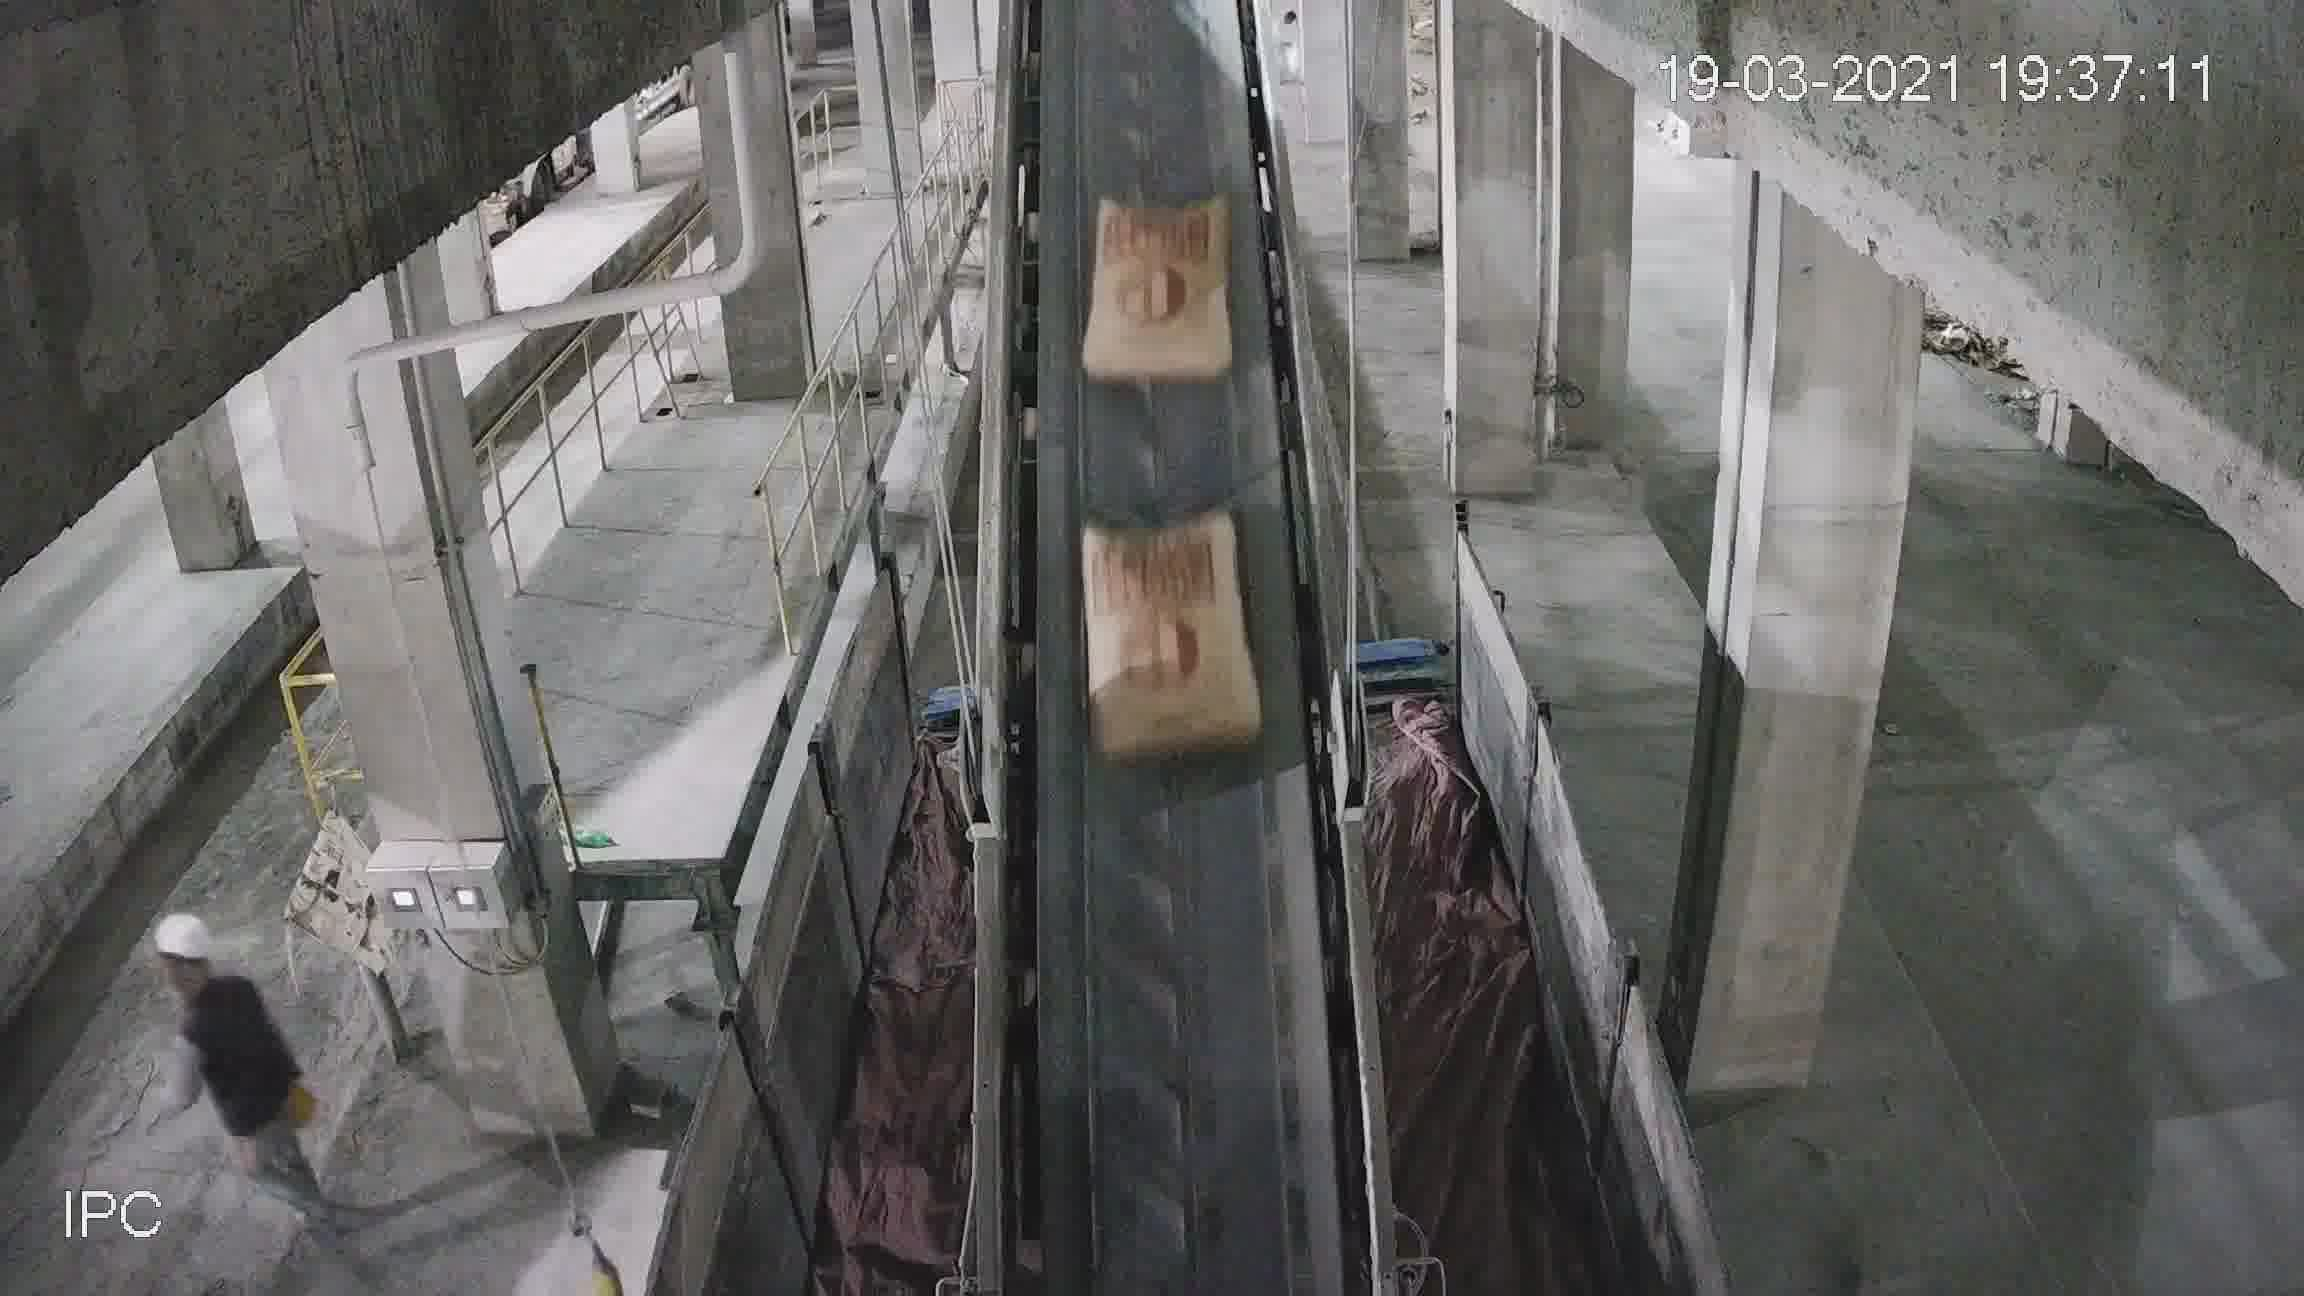bag: (1081, 514, 1249, 737), (1086, 204, 1234, 385)
belt: (987, 66, 1348, 1176)
